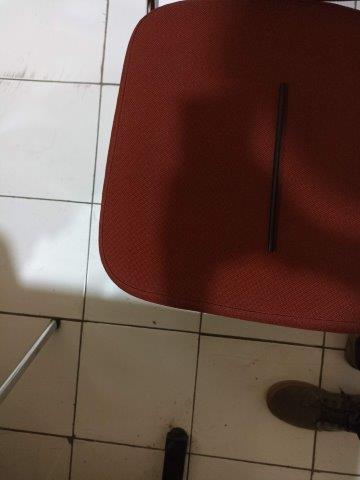sedotan: (267, 87, 286, 250)
